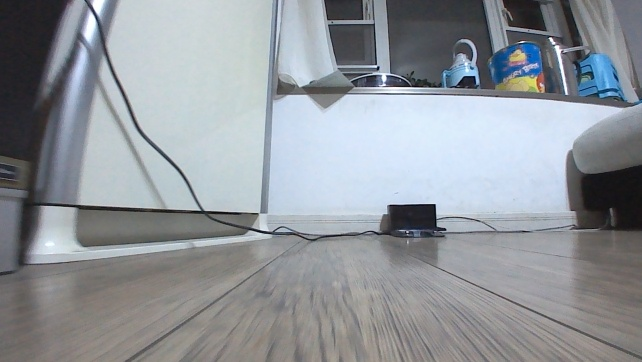TV_stand: (383, 200, 445, 238)
wire: (78, 0, 391, 243), (435, 214, 611, 236)
